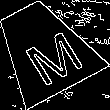M_NW: (8, 16, 79, 82)
